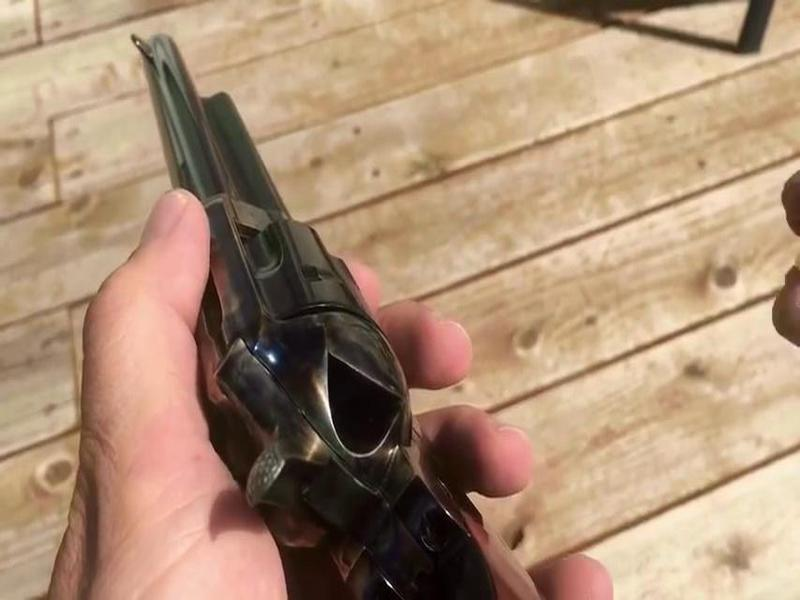Revolver: (118, 35, 428, 566)
